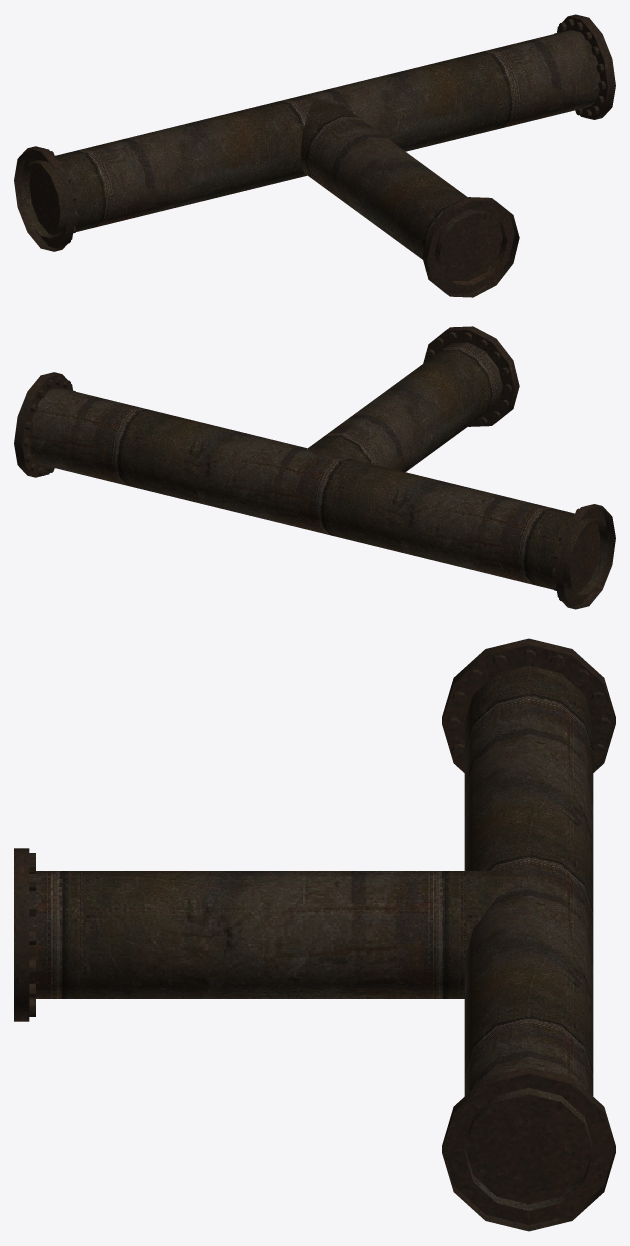
The model's file is pipe_bx_4.glb.
The picture shows the model from 3 angles, top to bottom: view 1: azimuth 30°, elevation 25°; view 2: azimuth 150°, elevation 25°; view 3: azimuth 270°, elevation 25°; orthographic projection. The views are drawn at different scales.
Parts seen in each view (by area): view 1: pipe_bx_4; view 2: pipe_bx_4; view 3: pipe_bx_4.
Part boxes in pixels (x1=…): pipe_bx_4: x1=14, y1=14, x2=615, y2=297; pipe_bx_4: x1=14, y1=326, x2=615, y2=609; pipe_bx_4: x1=14, y1=638, x2=615, y2=1231.
Size of the model in its own units: 4 by 0.676 by 2.34.
Materials: 2 (2 with a texture image).
